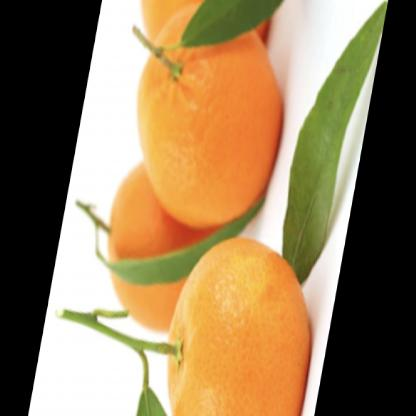orange: (131, 7, 286, 224), (165, 222, 312, 416), (94, 150, 191, 331)
